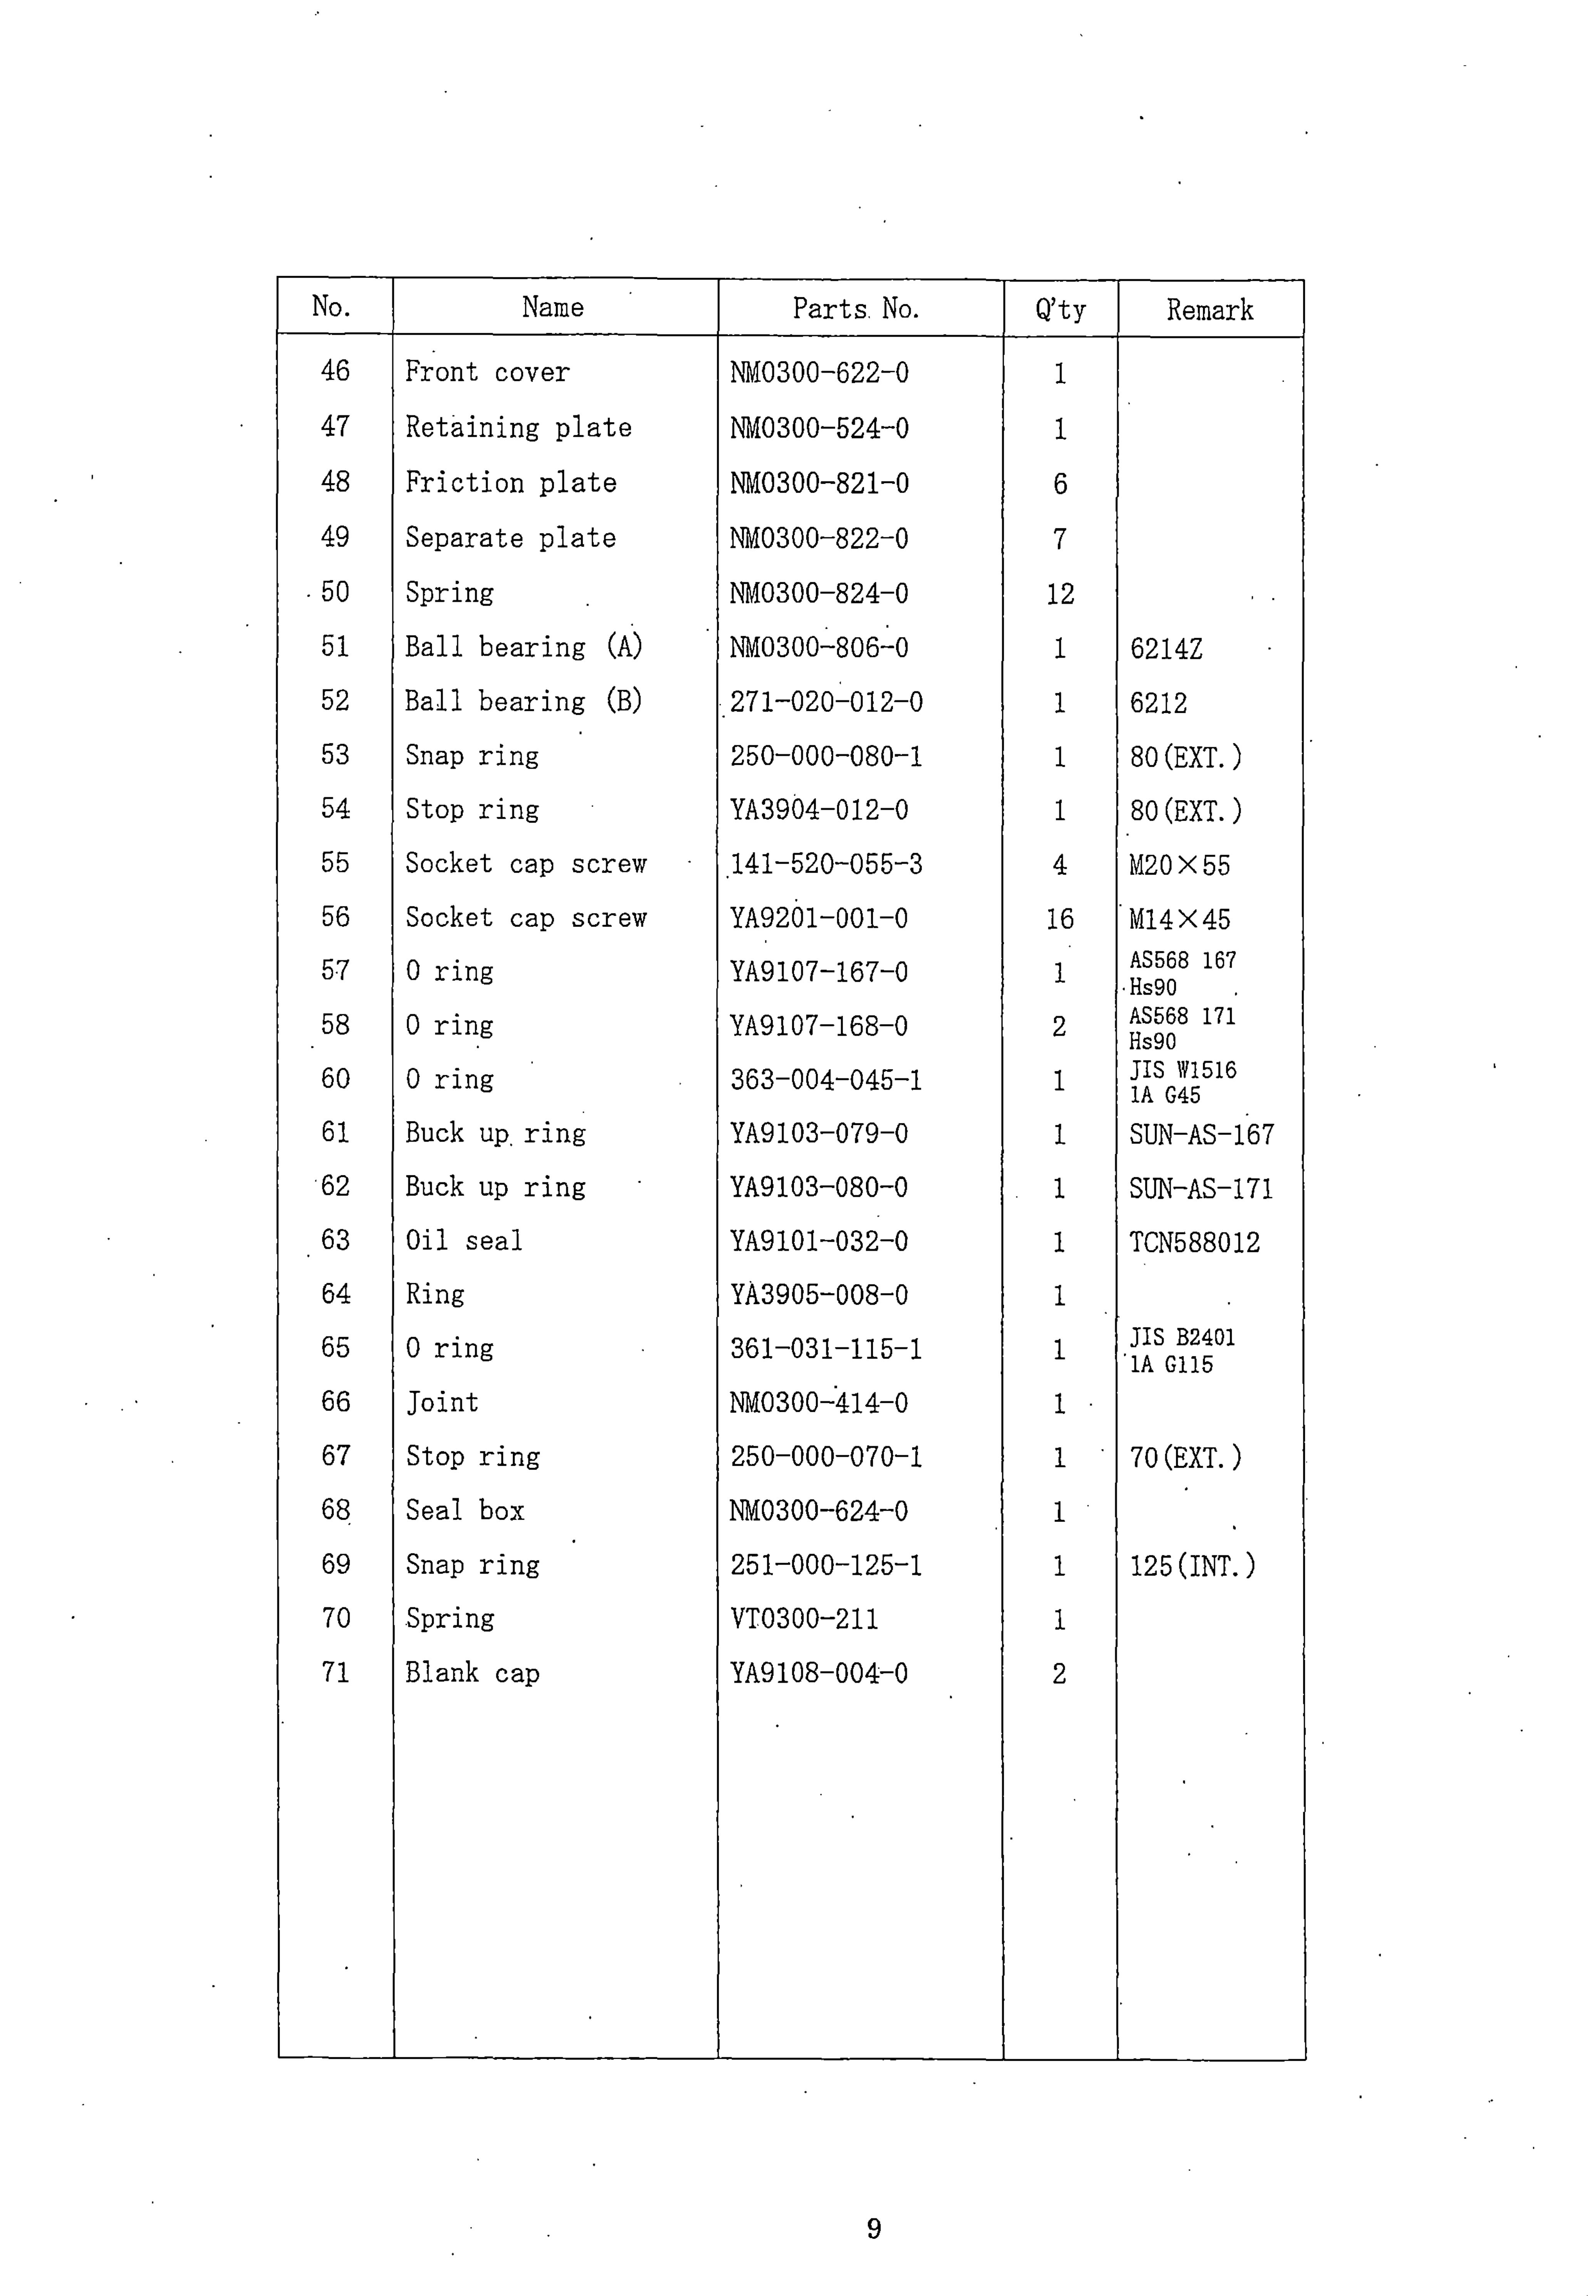Table: (267, 262, 1320, 2074)
